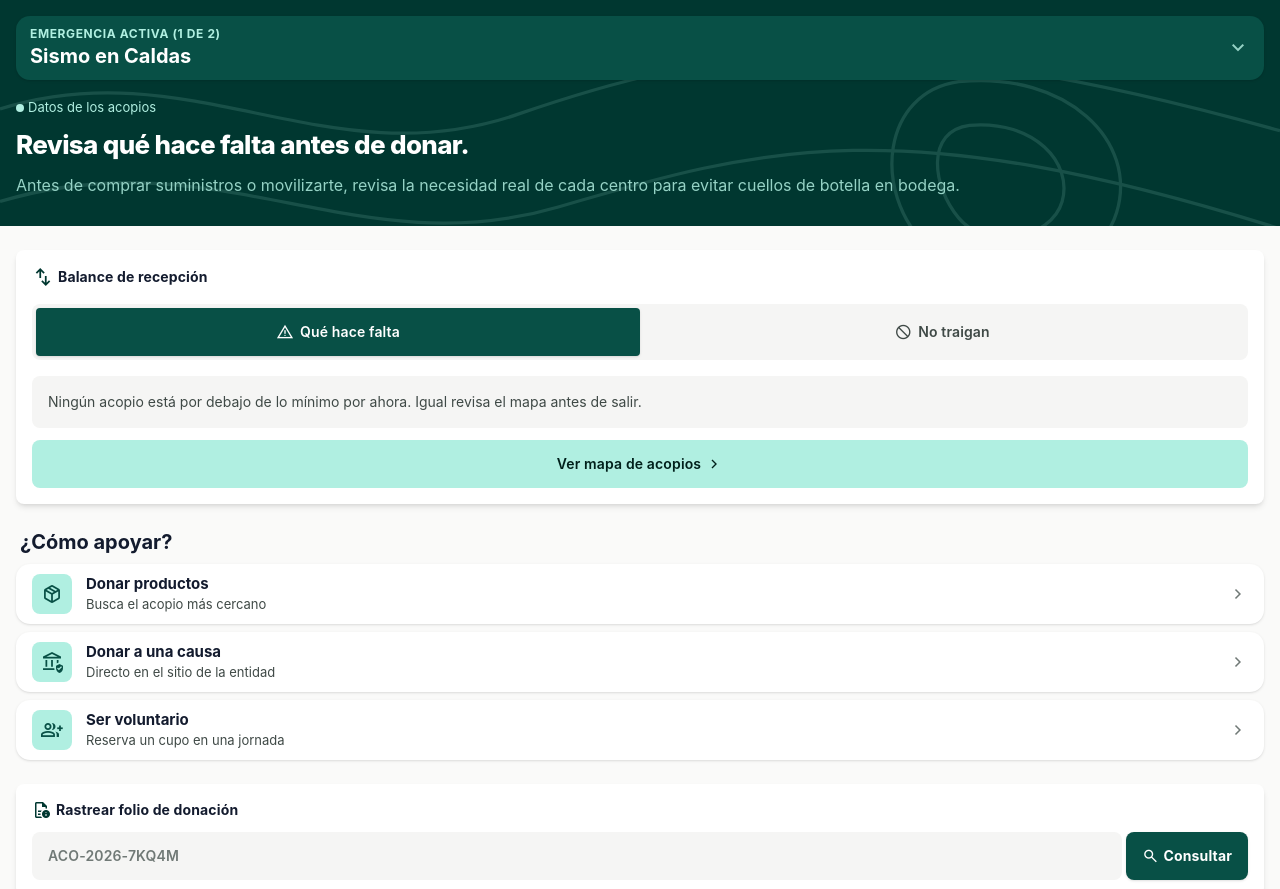
Test: con emergencias › el selector cambia la emergencia mostrada
Click the button "Emergencia activa (1 de 2) Sismo en Caldas" at (125, 34), box [16,16,1264,80]
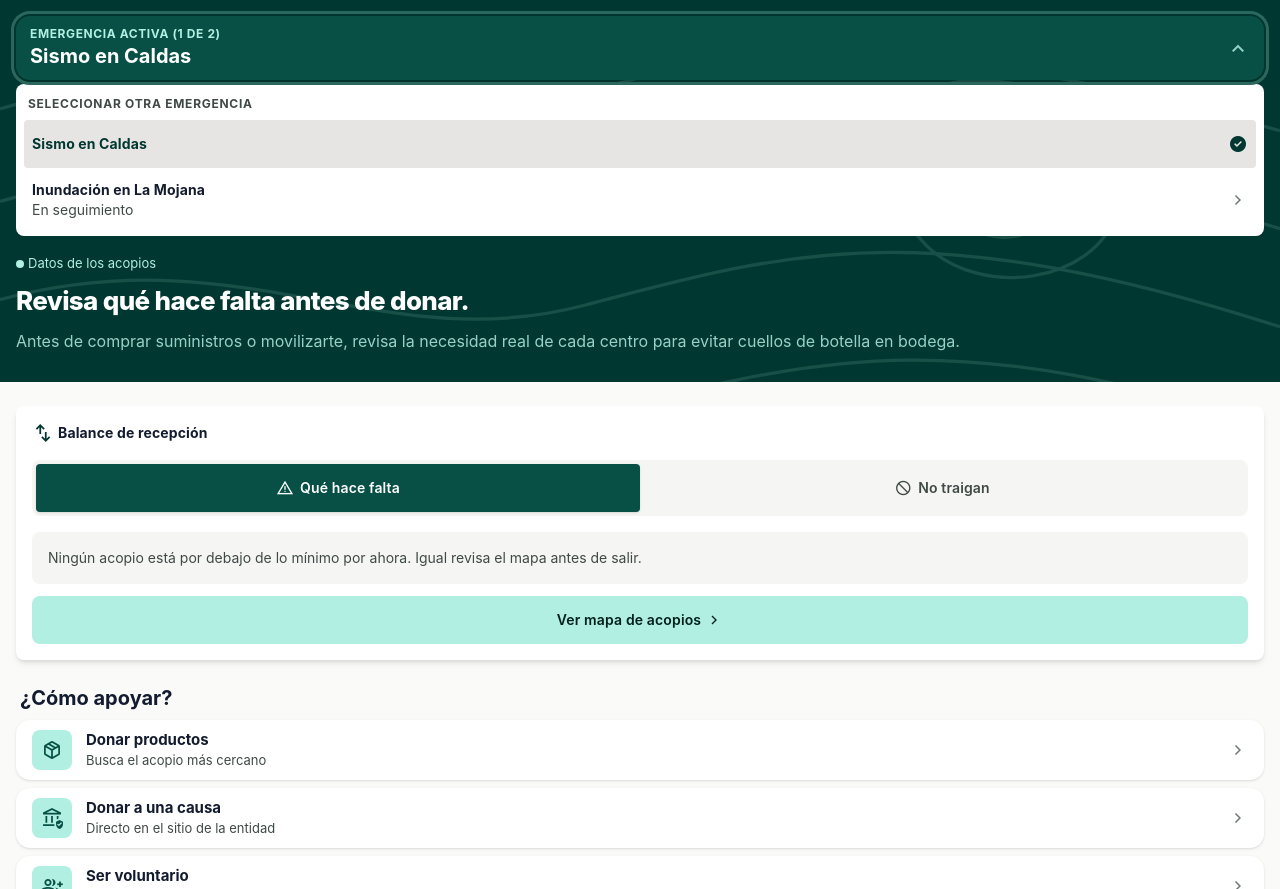
Click the menu item "Inundación en La Mojana En seguimiento" at (119, 190), box [24,172,1256,228]
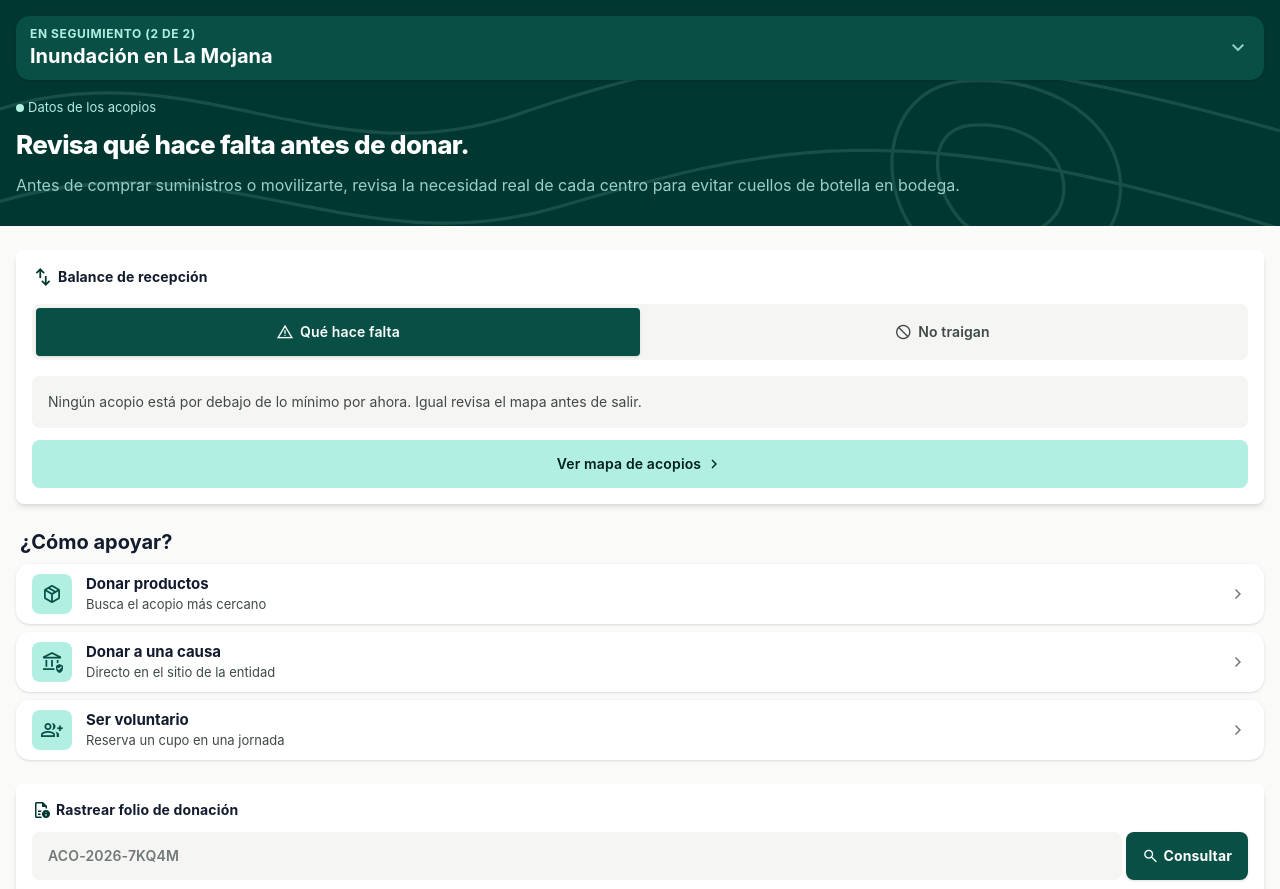
Expected: the button "En seguimiento (2 de 2) Inundación en La Mojana" is shown, [16,16,1264,80]
Expected: the menu is gone
